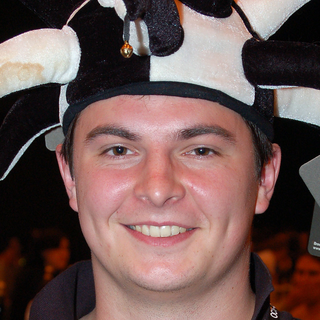eye: (92, 142, 143, 162), (176, 143, 226, 161)
